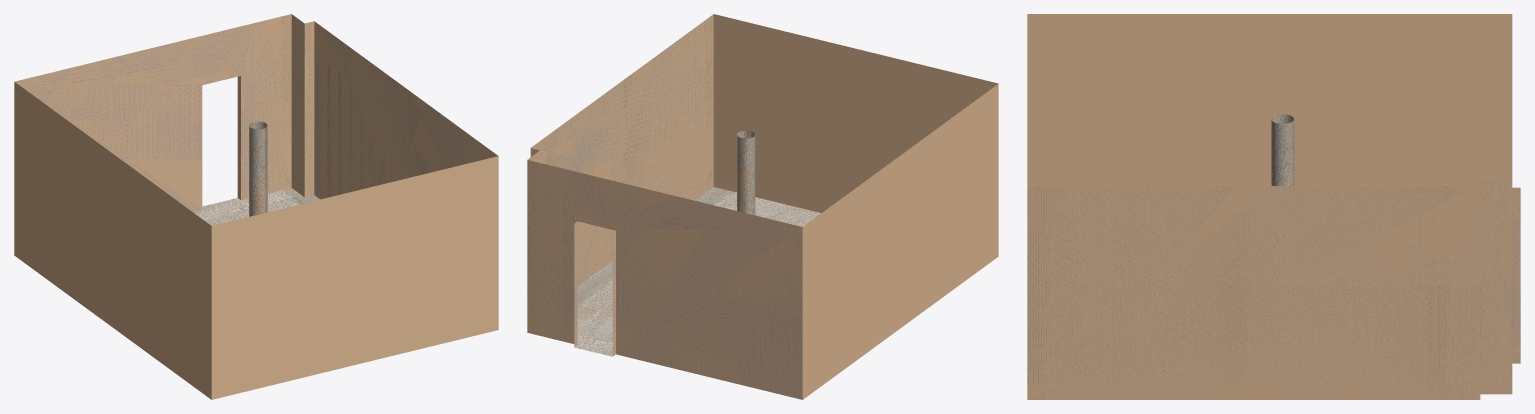
The model's file is AUL023.obj.
The picture shows the model from 3 angles, left to right: view 1: azimuth 30°, elevation 25°; view 2: azimuth 150°, elevation 25°; view 3: azimuth 270°, elevation 25°; orthographic projection. The views are drawn at different scales.
Parts seen in each view (by area): view 1: Mesh1 AUL023 Model, Mesh2 AUL023 Model; view 2: Mesh1 AUL023 Model, Mesh2 AUL023 Model; view 3: Mesh1 AUL023 Model, Mesh2 AUL023 Model.
Part boxes in pixels (x1,y1,x2,y2): Mesh1 AUL023 Model: (14, 14, 498, 399); Mesh2 AUL023 Model: (249, 121, 267, 216); Mesh1 AUL023 Model: (527, 14, 998, 399); Mesh2 AUL023 Model: (737, 130, 755, 215); Mesh1 AUL023 Model: (1027, 14, 1520, 399); Mesh2 AUL023 Model: (1271, 114, 1294, 185).
Bounding box in the file's own units: 6.21 × 3.85 × 7.52.
5 materials, 2 textured.
